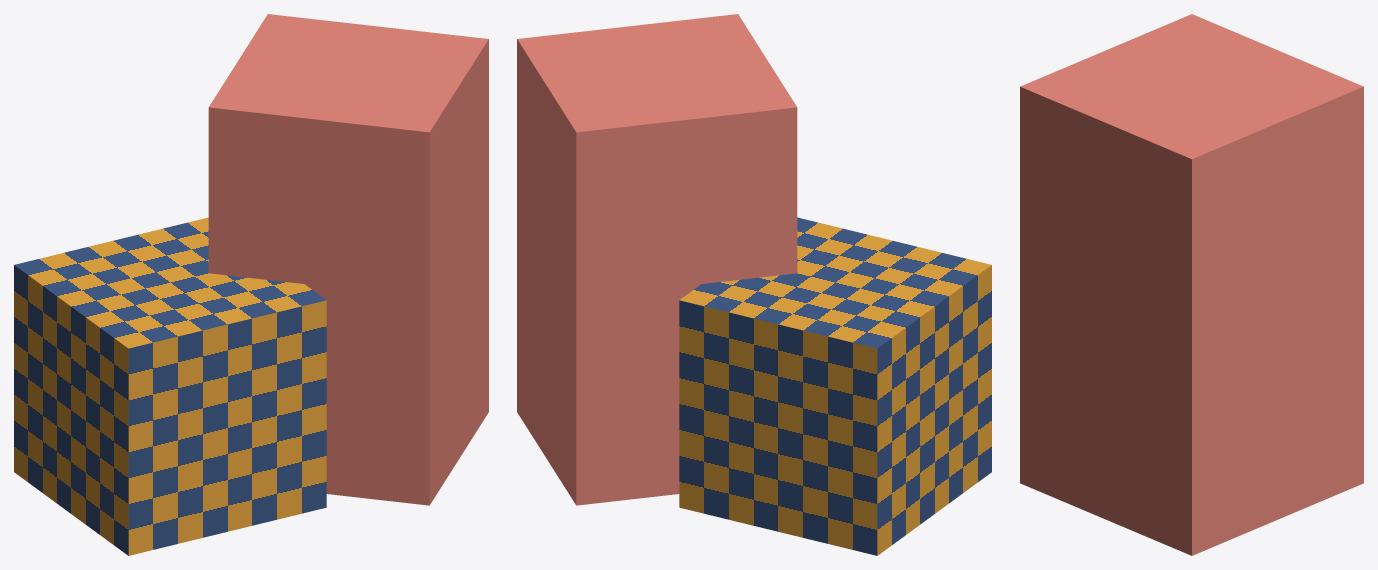
The model's file is testscene.glb.
3 renders of one model, left to right at view 1: azimuth 30°, elevation 25°; view 2: azimuth 150°, elevation 25°; view 3: azimuth 270°, elevation 25°, orthographic. The views are drawn at different scales.
Parts seen in each view (by area): view 1: textured_cube, child, parent; view 2: textured_cube, child, parent; view 3: child, parent.
Part boxes in pixels (x1=…): textured_cube: x1=14, y1=217, x2=326, y2=555; child: x1=208, y1=14, x2=488, y2=330; parent: x1=305, y1=205, x2=488, y2=505; textured_cube: x1=679, y1=217, x2=991, y2=555; child: x1=517, y1=14, x2=797, y2=339; parent: x1=517, y1=205, x2=700, y2=505; child: x1=1020, y1=14, x2=1363, y2=378; parent: x1=1020, y1=263, x2=1363, y2=555.
Bounding box in the file's own units: 4.21 × 3.6 × 2.83.
2 materials, 1 textured.
